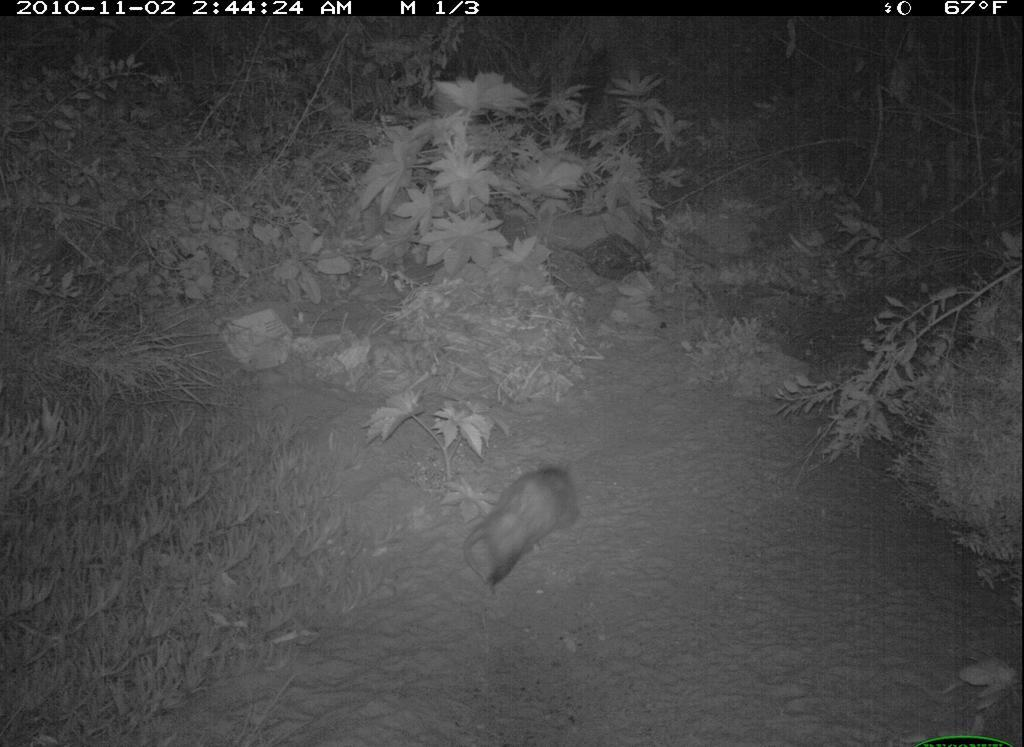opossum: (443, 454, 598, 601)
